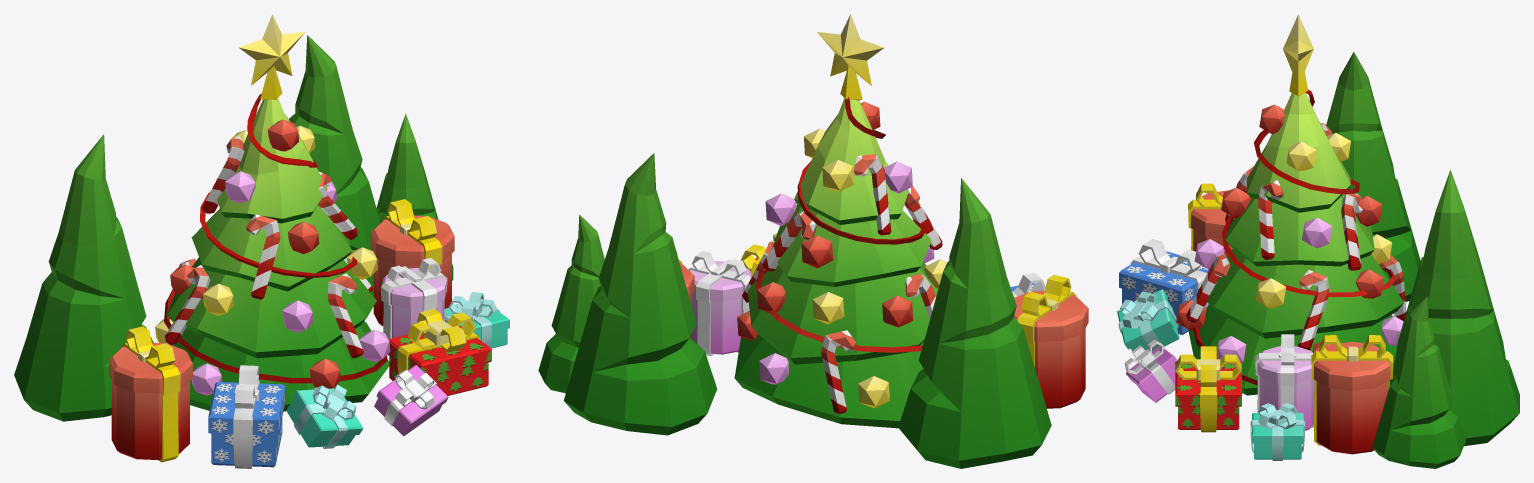
3 views of the same model, side by side, from view 1: azimuth 30°, elevation 25°; view 2: azimuth 150°, elevation 25°; view 3: azimuth 270°, elevation 25° (orthographic). The views are drawn at different scales.
Visible parts, largest first — view 1: Christmas_Tree, Christmas_Tree_060, Christmas_Present_01, Christmas_Tree_2, Christmas_Present_009, Christmas_Present_04, Christmas_Present_008, Christmas_Present_02, Christmas_Present_07, Christmas_Tree_059, Christmas_Present_05, Christmas_Present_06 (+14 smaller); view 2: Christmas_Tree, Christmas_Tree_060, Christmas_Tree_2, Christmas_Present_01, Christmas_Tree_059, Christmas_Present_02, Christmas_Tree_Candy007, Christmas_Tree_Candy004, Christmas_Tree_Candy005, Christmas_Tree_Ball_005, Christmas_Tree_051, Christmas_Tree_Ball_004 (+8 smaller); view 3: Christmas_Tree, Christmas_Tree_2, Christmas_Tree_059, Christmas_Tree_060, Christmas_Present_008, Christmas_Present_04, Christmas_Present_009, Christmas_Present_02, Christmas_Present_07, Christmas_Present_06, Christmas_Present_05, Christmas_Present_01 (+18 smaller).
Boxes of the visible parts, <box> form: Christmas_Tree: <box>164,14,389,411</box>; Christmas_Tree_060: <box>14,134,153,421</box>; Christmas_Present_01: <box>109,326,192,462</box>; Christmas_Tree_2: <box>289,35,380,295</box>; Christmas_Present_009: <box>208,365,285,468</box>; Christmas_Present_04: <box>388,309,491,395</box>; Christmas_Present_008: <box>370,199,454,325</box>; Christmas_Present_02: <box>381,258,447,355</box>; Christmas_Present_07: <box>286,384,363,448</box>; Christmas_Tree_059: <box>376,113,453,280</box>; Christmas_Present_05: <box>374,364,448,436</box>; Christmas_Present_06: <box>444,292,509,348</box>; Christmas_Tree: <box>734,14,937,428</box>; Christmas_Tree_060: <box>898,178,1051,468</box>; Christmas_Tree_2: <box>564,153,717,435</box>; Christmas_Present_01: <box>1014,274,1088,408</box>; Christmas_Tree_059: <box>538,214,604,393</box>; Christmas_Present_02: <box>688,251,751,355</box>; Christmas_Tree_Candy007: <box>821,330,856,413</box>; Christmas_Tree_Candy004: <box>853,154,891,235</box>; Christmas_Tree_Candy005: <box>762,210,816,271</box>; Christmas_Tree_Ball_005: <box>812,292,844,324</box>; Christmas_Tree_051: <box>801,235,832,268</box>; Christmas_Tree_Ball_004: <box>858,376,889,408</box>; Christmas_Tree: <box>1188,14,1403,395</box>; Christmas_Tree_2: <box>1389,169,1519,446</box>; Christmas_Tree_059: <box>1372,296,1465,468</box>; Christmas_Tree_060: <box>1326,52,1420,301</box>; Christmas_Present_008: <box>1311,335,1393,454</box>; Christmas_Present_04: <box>1175,346,1241,432</box>; Christmas_Present_009: <box>1119,239,1209,334</box>; Christmas_Present_02: <box>1255,334,1314,430</box>; Christmas_Present_07: <box>1117,289,1179,351</box>; Christmas_Present_06: <box>1250,403,1304,460</box>; Christmas_Present_05: <box>1124,340,1177,402</box>; Christmas_Present_01: <box>1188,183,1232,255</box>.
Bounding box in the file's own units: 4.66 × 3.64 × 3.73.
1 material, 1 textured.
